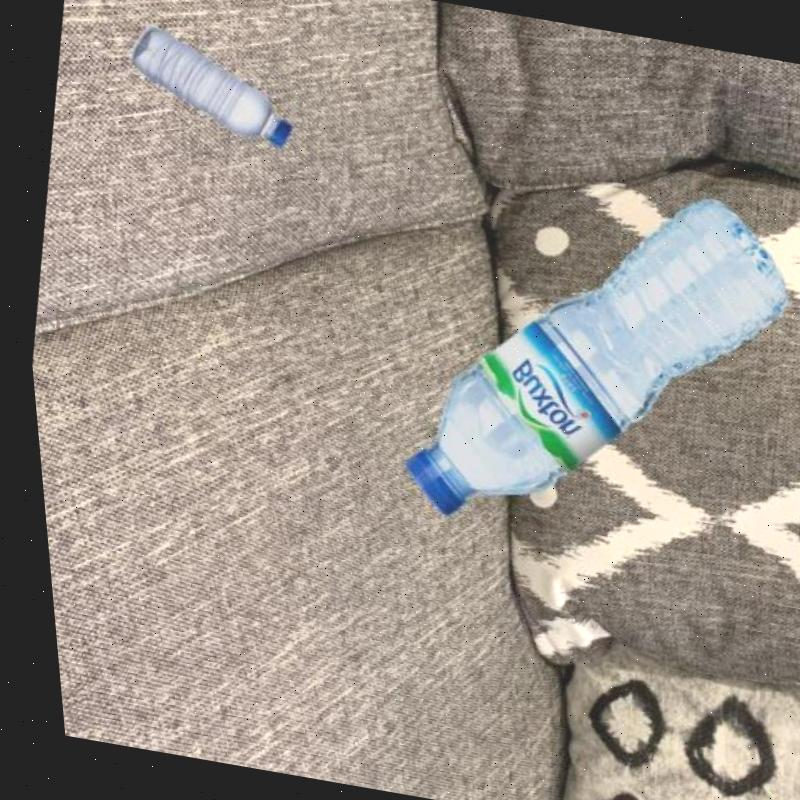botella: (365, 148, 800, 574), (117, 22, 309, 151)
